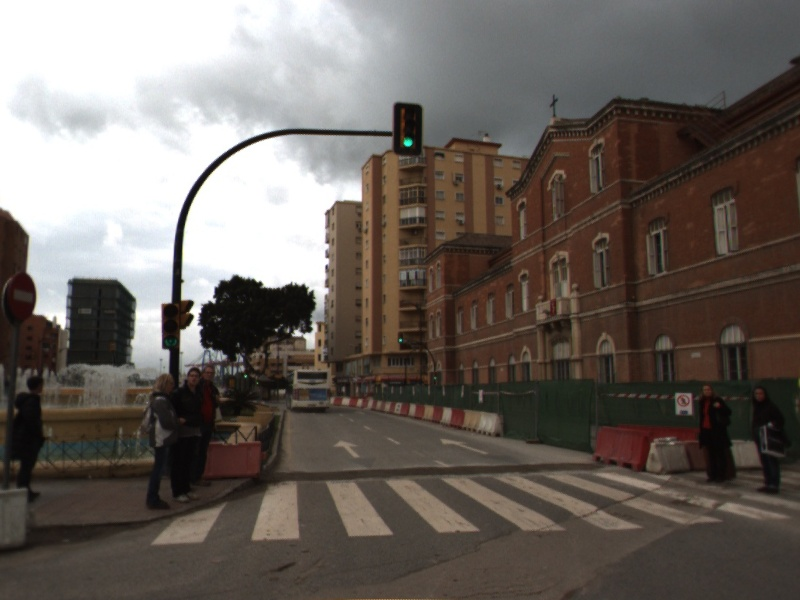STRAIGHT: (439, 436, 492, 456), (331, 437, 363, 459)
